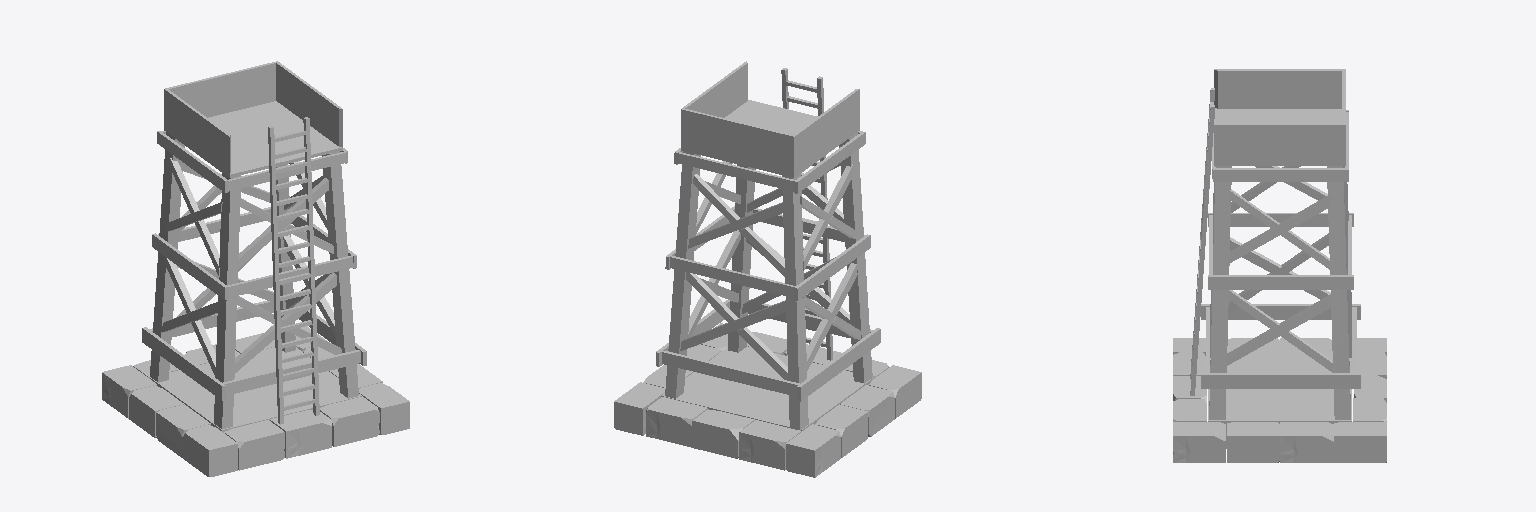
The model's file is woodenTower.obj.
3 views of the same model, side by side, from view 1: azimuth 30°, elevation 25°; view 2: azimuth 150°, elevation 25°; view 3: azimuth 270°, elevation 25° (orthographic).
Parts seen in each view (by area): view 1: walls_Plane, Ladder_Cube.006, Cube.013_Cube.029, Plane.002_Plane.005, Plane.001_Plane.004, Plane.004_Plane.006, Cube.003_Cube.004, Cube.011_Cube.012, Cube.007_Cube.008, Cube.016_Cube.032, Cube.019_Cube.020, Cube.014_Cube.030 (+18 smaller); view 2: walls_Plane, Cube.013_Cube.029, Plane.004_Plane.006, Plane.003, Plane.002_Plane.005, Cube.017_Cube.033, Cube_Cube.001, Cube.022_Cube.037, Cube.004_Cube.005, Cube.012_Cube.013, Cube.008_Cube.009, Plane.005_Plane.008 (+19 smaller); view 3: walls_Plane, Cube.013_Cube.029, Plane.003, Plane.001_Plane.004, Plane.006_Plane.009, Cube.015_Cube.031, Cube.020_Cube.035, Cube.006_Cube.026, Plane.011_Plane.014, Cube.005_Cube.025, Cube.010_Cube.028, Cube.009_Cube.027 (+12 smaller).
Boxes of the visible parts, box(x1,y1,x2,y2) form: walls_Plane: box(164, 61, 342, 177); Ladder_Cube.006: box(268, 117, 319, 424); Cube.013_Cube.029: box(150, 347, 361, 432); Plane.002_Plane.005: box(214, 173, 240, 428); Plane.001_Plane.004: box(322, 151, 358, 398); Plane.004_Plane.006: box(150, 132, 184, 382); Cube.003_Cube.004: box(182, 425, 237, 476); Cube.011_Cube.012: box(320, 396, 379, 446); Cube.007_Cube.008: box(224, 420, 284, 470); Cube.016_Cube.032: box(235, 273, 341, 372); Cube.019_Cube.020: box(270, 410, 331, 458); Cube.014_Cube.030: box(162, 257, 217, 374); walls_Plane: box(681, 61, 859, 177); Cube.013_Cube.029: box(661, 346, 873, 430); Plane.004_Plane.006: box(782, 174, 808, 430); Plane.003: box(665, 151, 700, 398); Plane.002_Plane.005: box(839, 132, 872, 383); Cube.017_Cube.033: box(680, 272, 787, 380); Cube_Cube.001: box(786, 424, 840, 477); Cube.022_Cube.037: box(688, 174, 784, 276); Cube.004_Cube.005: box(739, 420, 801, 470); Cube.012_Cube.013: box(692, 409, 754, 458); Cube.008_Cube.009: box(646, 397, 707, 447); Plane.005_Plane.008: box(662, 351, 799, 396); walls_Plane: box(1214, 69, 1345, 165); Cube.013_Cube.029: box(1208, 352, 1351, 448); Plane.003: box(1327, 166, 1350, 419); Plane.001_Plane.004: box(1209, 166, 1231, 419); Plane.006_Plane.009: box(1201, 373, 1360, 388); Cube.015_Cube.031: box(1227, 290, 1332, 372); Cube.020_Cube.035: box(1228, 189, 1331, 269); Cube.006_Cube.026: box(1280, 422, 1333, 462); Plane.011_Plane.014: box(1208, 275, 1353, 289); Cube.005_Cube.025: box(1334, 422, 1386, 462); Cube.010_Cube.028: box(1173, 422, 1225, 462); Cube.009_Cube.027: box(1227, 422, 1279, 462).
Size of the model in its own units: 8.03 by 12.08 by 7.42.